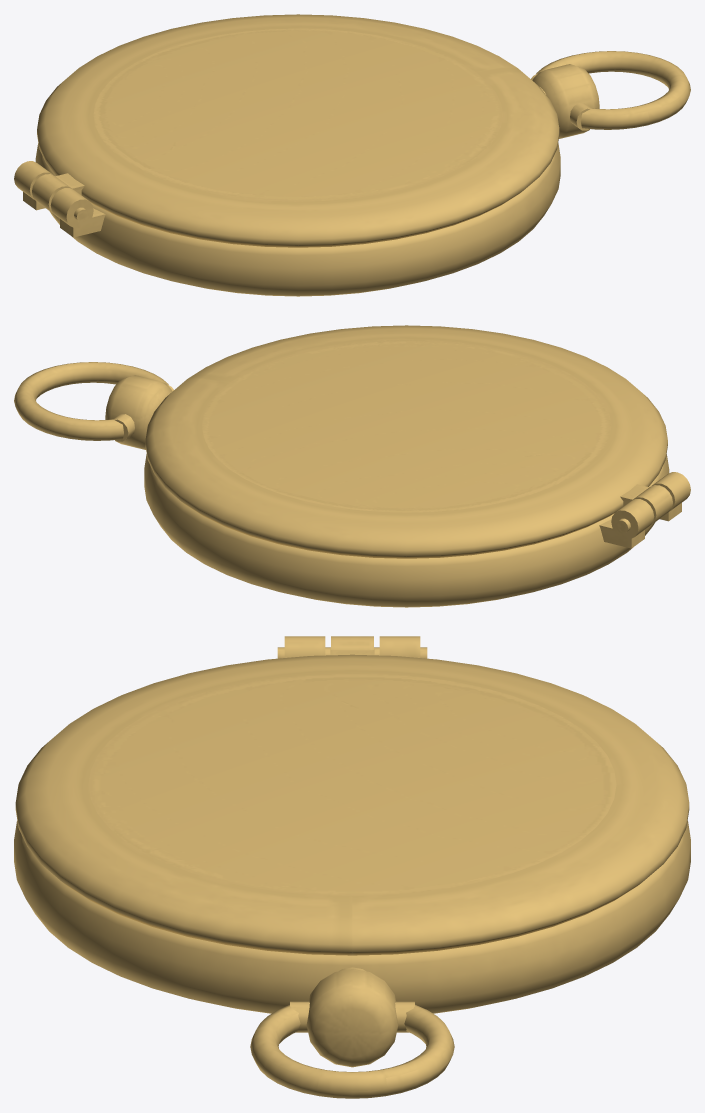
Rendered from H2_Watch.fbx.
The picture shows the model from 3 angles, top to bottom: view 1: azimuth 30°, elevation 25°; view 2: azimuth 150°, elevation 25°; view 3: azimuth 270°, elevation 25°; orthographic projection. The views are drawn at different scales.
Parts seen in each view (by area): view 1: Lid, Case, Bow, Crown, HingeBody, LidKnuckle, HingeMounts; view 2: Lid, Case, Bow, Crown, HingeBody, LidKnuckle, HingeMounts; view 3: Lid, Case, Bow, Crown, HingeBody, BowMounts.
Part boxes in pixels (bbox=[...]): Lid: bbox=[37, 14, 559, 247]; Case: bbox=[35, 143, 560, 296]; Bow: bbox=[536, 51, 690, 129]; Crown: bbox=[532, 64, 599, 138]; HingeBody: bbox=[14, 161, 93, 228]; LidKnuckle: bbox=[32, 174, 71, 213]; HingeMounts: bbox=[23, 192, 105, 237]; Lid: bbox=[145, 325, 667, 558]; Case: bbox=[144, 454, 669, 607]; Bow: bbox=[14, 362, 168, 440]; Crown: bbox=[105, 375, 172, 449]; HingeBody: bbox=[611, 472, 690, 539]; LidKnuckle: bbox=[633, 485, 672, 524]; HingeMounts: bbox=[599, 503, 681, 548]; Lid: bbox=[15, 654, 689, 955]; Case: bbox=[14, 821, 690, 1013]; Bow: bbox=[250, 1004, 454, 1098]; Crown: bbox=[306, 967, 398, 1067]; HingeBody: bbox=[284, 636, 420, 657]; BowMounts: bbox=[290, 1001, 414, 1032].
Bounding box in the file's own units: 1.35 × 0.1728 × 0.96.
Materials: 4 (3 with a texture image).
